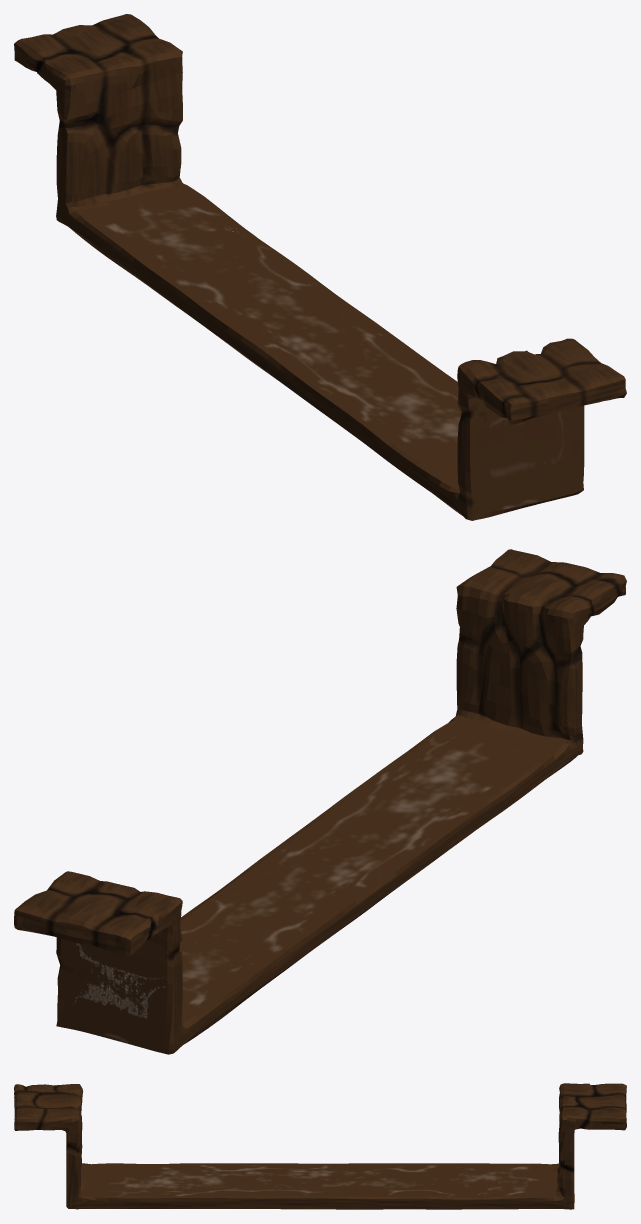
Rendered from Spike_Pit_Platform_2.fbx.
3 renders of one model, top to bottom at view 1: azimuth 30°, elevation 25°; view 2: azimuth 150°, elevation 25°; view 3: azimuth 270°, elevation 25°, orthographic. The views are drawn at different scales.
Parts seen in each view (by area): view 1: Spike_Pit_Platform_2:ZBrushPolyMesh3D; view 2: Spike_Pit_Platform_2:ZBrushPolyMesh3D; view 3: Spike_Pit_Platform_2:ZBrushPolyMesh3D.
Part boxes in pixels (bbox=[...]): Spike_Pit_Platform_2:ZBrushPolyMesh3D: bbox=[14, 14, 626, 520]; Spike_Pit_Platform_2:ZBrushPolyMesh3D: bbox=[14, 549, 626, 1054]; Spike_Pit_Platform_2:ZBrushPolyMesh3D: bbox=[14, 1083, 626, 1209].
Size of the model in its own units: 2 by 2.46 by 14.5.
